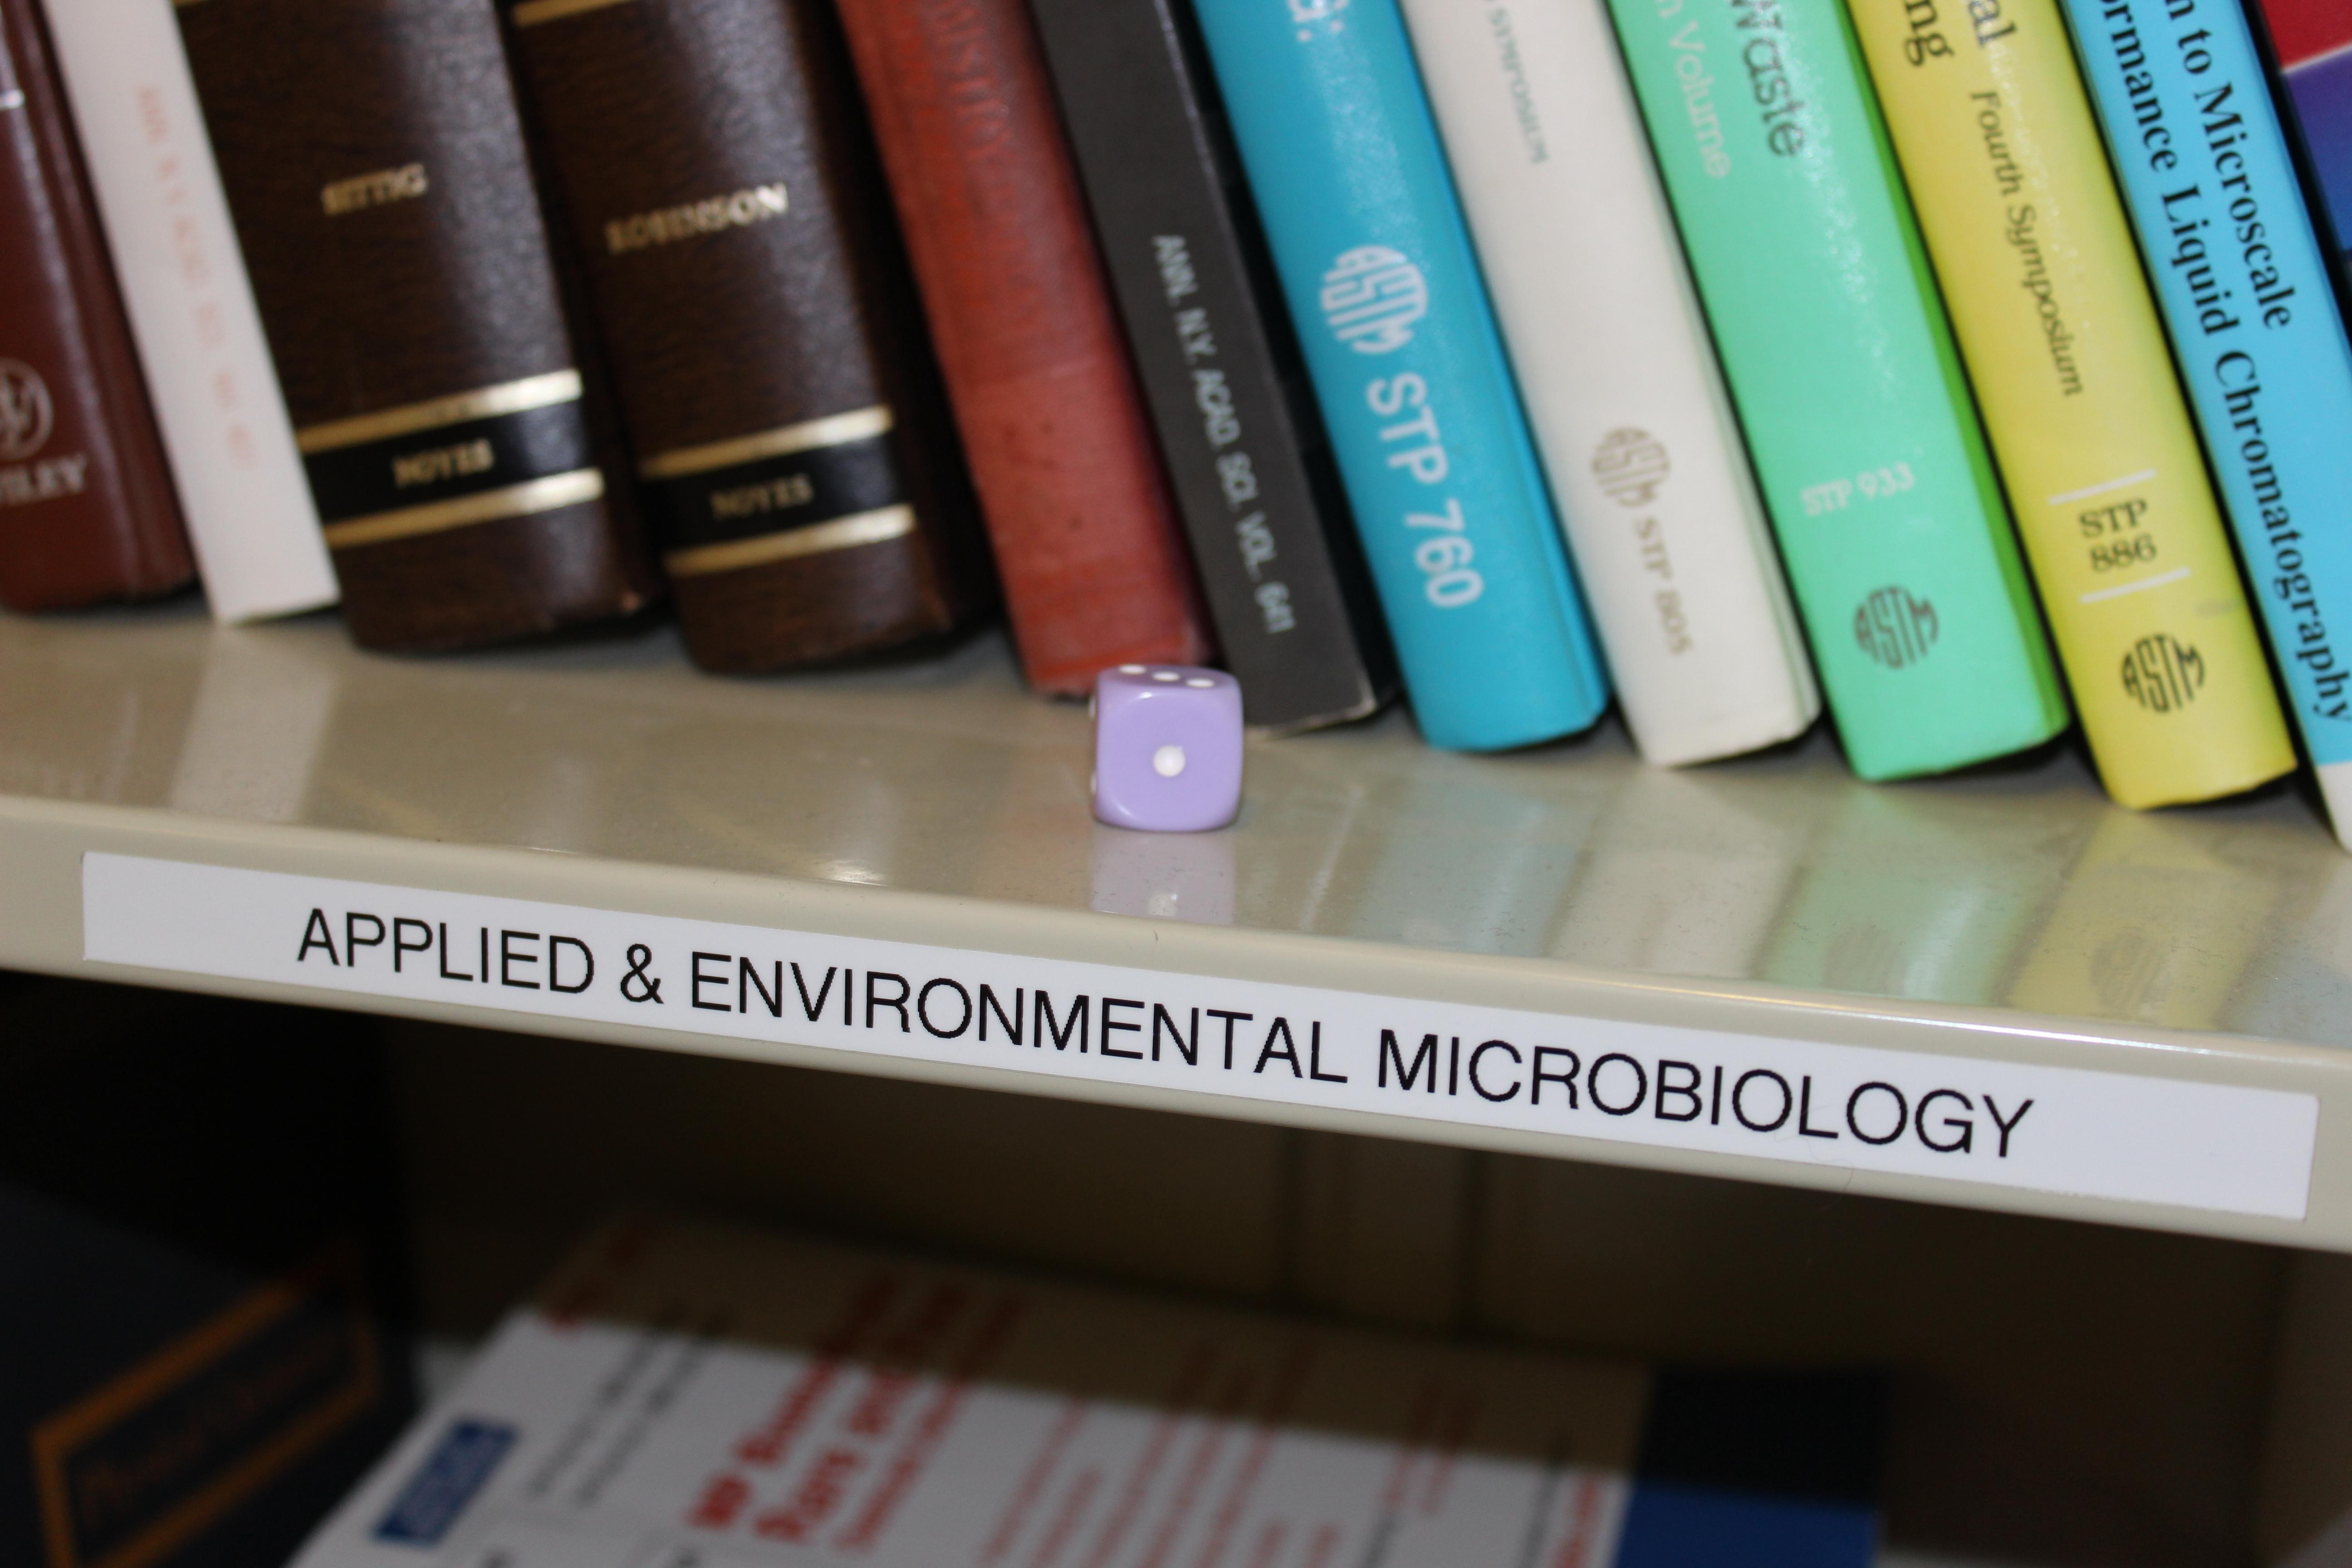lavenderDie: (1050, 639, 1285, 873)
